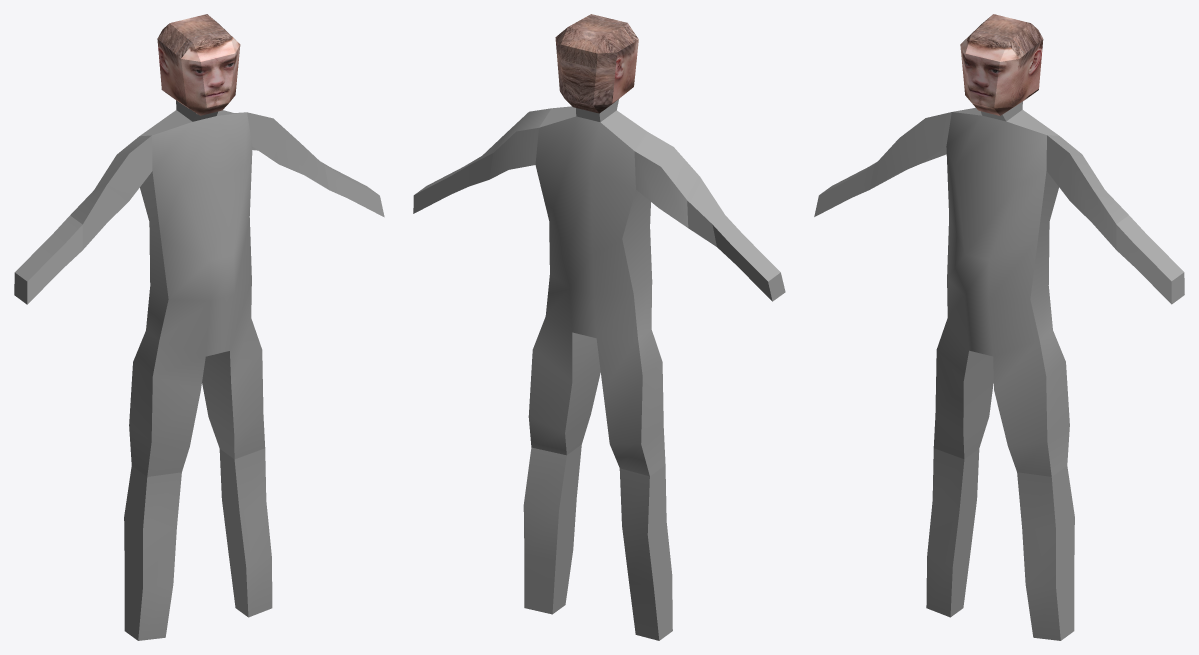
The model's file is Male model pixel check.fbx.
3 views of the same model, side by side, from view 1: azimuth 30°, elevation 25°; view 2: azimuth 150°, elevation 25°; view 3: azimuth 330°, elevation 25° (orthographic).
Parts seen in each view (by area): view 1: pCube1, pCube2; view 2: pCube1, pCube2; view 3: pCube1, pCube2.
Part boxes in pixels (x1=…): pCube1: x1=14, y1=100, x2=384, y2=640; pCube2: x1=157, y1=14, x2=240, y2=115; pCube1: x1=413, y1=99, x2=785, y2=640; pCube2: x1=555, y1=14, x2=638, y2=113; pCube1: x1=814, y1=101, x2=1184, y2=640; pCube2: x1=960, y1=14, x2=1043, y2=115.
Size of the model in its own units: 7.41 by 11.78 by 1.56.
